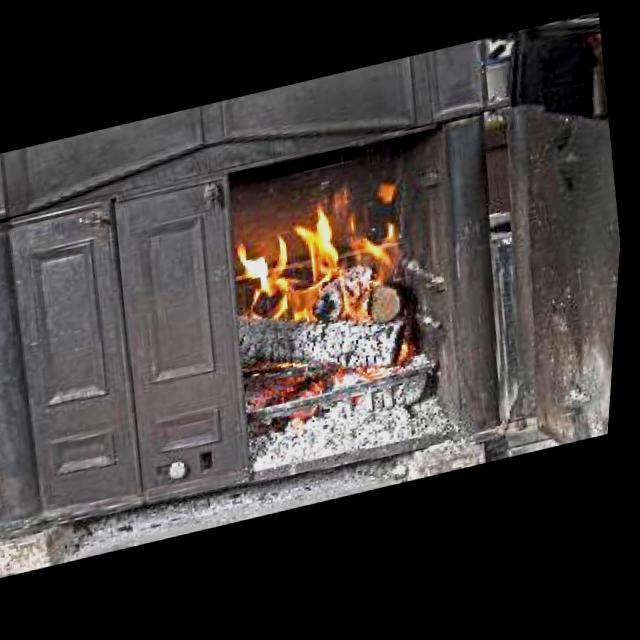helmet: (231, 173, 432, 350)
